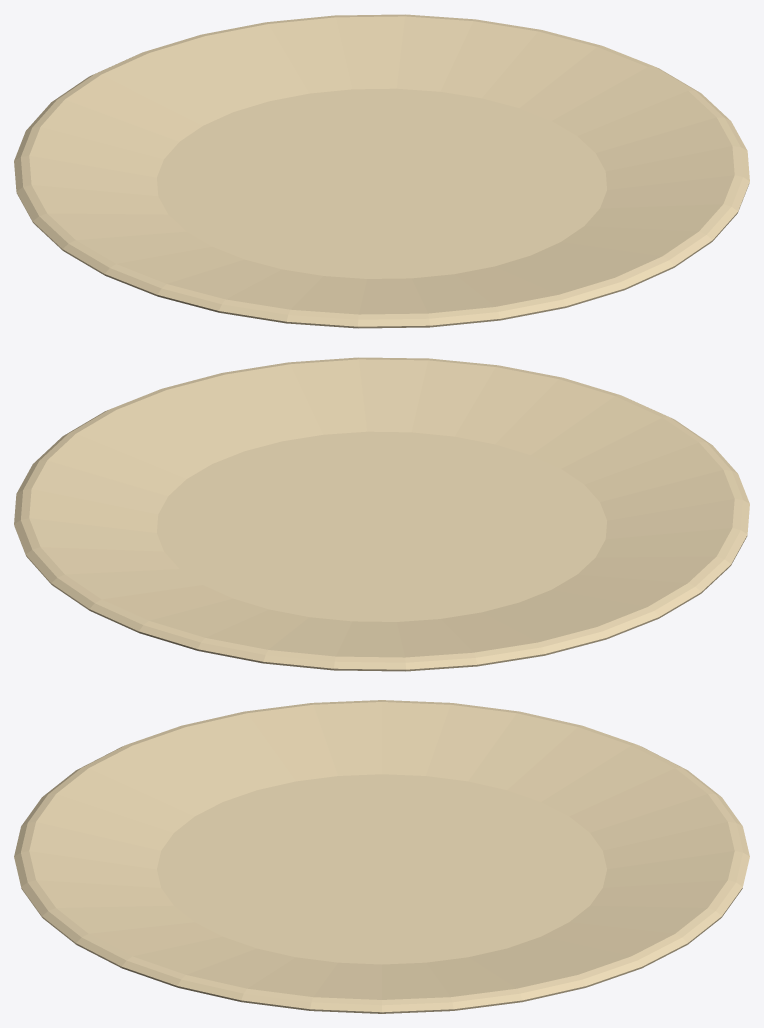
The model's file is Plate.fbx.
The picture shows the model from 3 angles, top to bottom: view 1: azimuth 30°, elevation 25°; view 2: azimuth 150°, elevation 25°; view 3: azimuth 270°, elevation 25°; orthographic projection.
Parts seen in each view (by area): view 1: Circle.006; view 2: Circle.006; view 3: Circle.006.
Boxes of the visible parts, x1=… form: Circle.006: x1=14, y1=14, x2=749, y2=328; Circle.006: x1=14, y1=357, x2=749, y2=671; Circle.006: x1=14, y1=700, x2=749, y2=1013.
Size of the model in its own units: 959 by 55.9 by 959.
